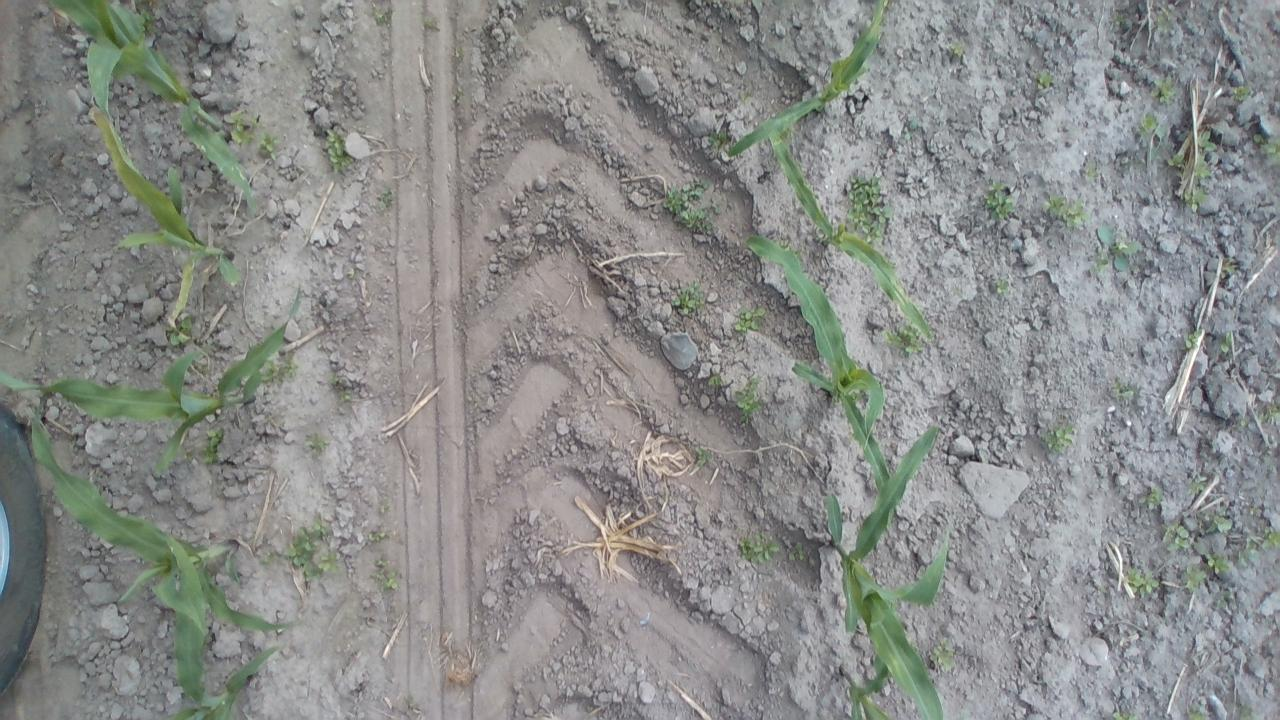Maize: (23, 406, 296, 634), (0, 288, 298, 476), (45, 0, 258, 216), (744, 233, 898, 496), (762, 121, 932, 338), (823, 421, 945, 720), (86, 100, 242, 324), (727, 0, 892, 160), (158, 525, 288, 720), (831, 658, 890, 720)
Weeds: (663, 179, 722, 236), (287, 523, 340, 582), (846, 174, 891, 242), (1092, 224, 1140, 274), (1042, 193, 1091, 230), (320, 127, 356, 174), (1138, 112, 1172, 160), (733, 375, 764, 426), (222, 105, 262, 144), (738, 528, 781, 564), (1238, 525, 1280, 561), (1162, 520, 1204, 554), (880, 322, 924, 354), (982, 179, 1016, 218), (670, 280, 705, 314), (1124, 566, 1160, 596), (1150, 74, 1180, 105), (734, 306, 767, 333), (198, 428, 222, 465), (931, 638, 957, 672), (260, 361, 300, 383), (374, 558, 400, 591), (254, 130, 282, 160), (1047, 422, 1077, 450), (167, 316, 193, 348), (1198, 511, 1234, 534), (1182, 184, 1210, 212), (1253, 133, 1280, 162), (1182, 564, 1208, 591), (1152, 6, 1176, 34), (1139, 484, 1163, 512), (1208, 550, 1232, 576), (329, 375, 352, 401), (1196, 130, 1219, 154), (694, 445, 716, 470), (1257, 403, 1280, 426), (304, 432, 330, 452), (1034, 70, 1056, 90), (705, 131, 729, 149), (1218, 257, 1236, 281), (1082, 160, 1102, 181), (786, 541, 806, 562), (1184, 330, 1203, 352), (1192, 158, 1212, 178), (376, 188, 394, 210), (1112, 382, 1134, 400), (1111, 708, 1138, 720), (260, 547, 276, 567), (1238, 706, 1260, 720), (947, 38, 964, 56), (1230, 85, 1250, 100), (372, 10, 390, 26), (708, 368, 724, 386), (1168, 153, 1186, 168), (1218, 334, 1233, 352), (831, 222, 850, 236), (995, 278, 1010, 294), (368, 532, 386, 544), (1188, 481, 1204, 494), (1184, 711, 1207, 720), (777, 238, 791, 252), (180, 448, 193, 461), (1114, 15, 1126, 26), (1238, 418, 1250, 428)
